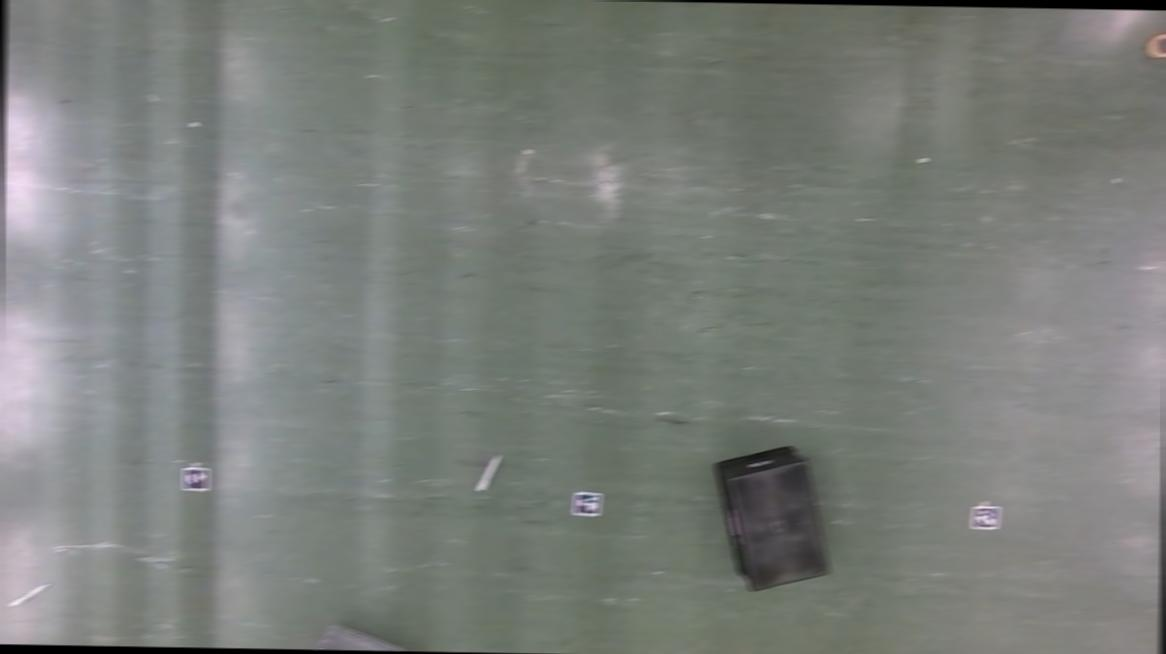probes: (12, 582, 48, 606), (478, 452, 498, 490)
rako: (711, 441, 832, 590)
